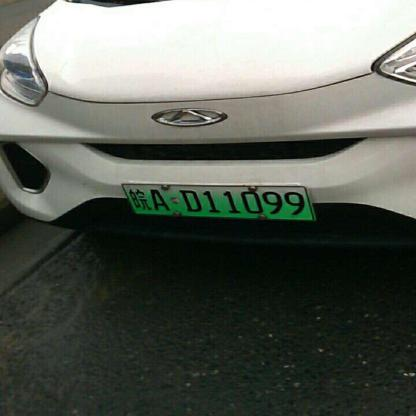lp: (122, 184, 314, 218)
